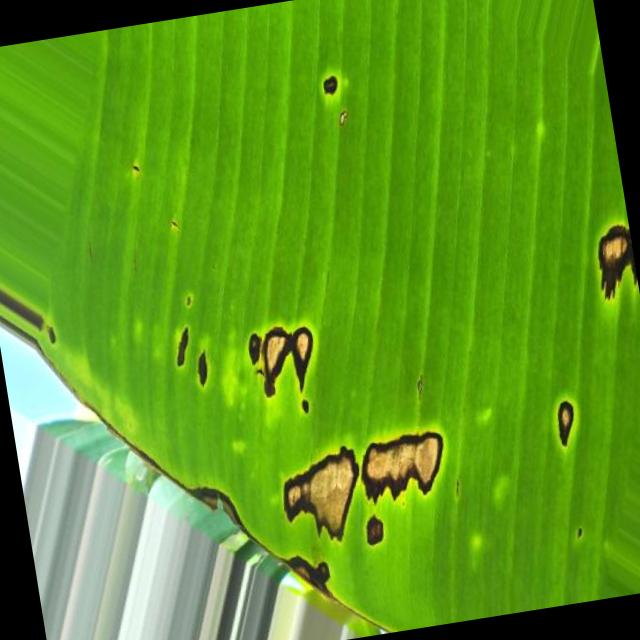Banana_Black_Sigatoka: (168, 274, 467, 610), (540, 192, 640, 471)
